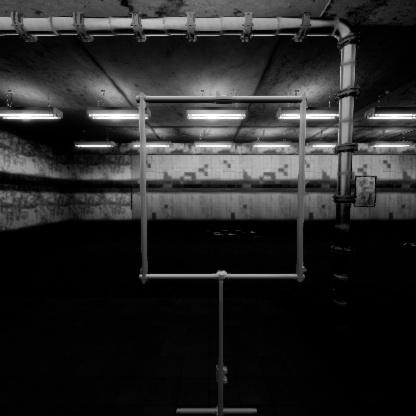gate: (139, 134, 321, 320)
